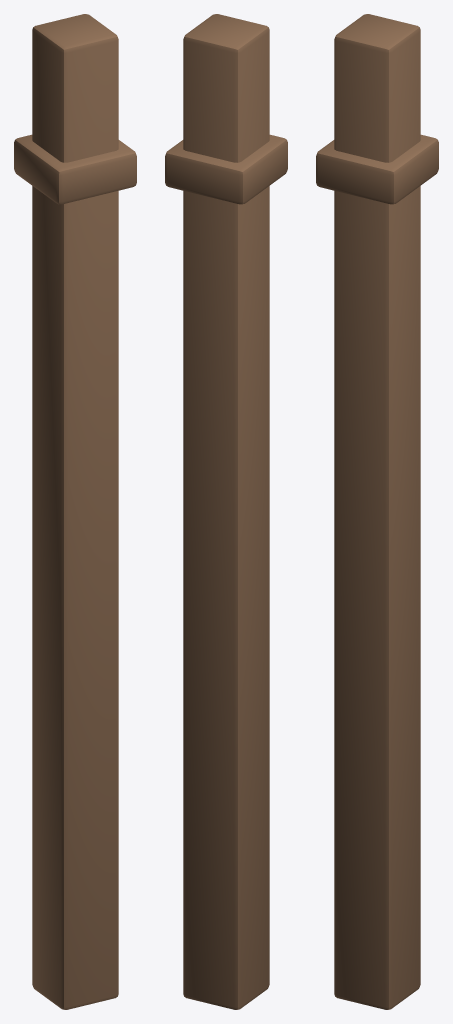
File: Bakery_BeamPost.fbx
3 views of the same model, side by side, from view 1: azimuth 30°, elevation 25°; view 2: azimuth 150°, elevation 25°; view 3: azimuth 330°, elevation 25° (orthographic).
Parts seen in each view (by area): view 1: Bakery_BeamPost; view 2: Bakery_BeamPost; view 3: Bakery_BeamPost.
Part boxes in pixels (x1,y1,x2,y2): Bakery_BeamPost: [14, 14, 136, 1009]; Bakery_BeamPost: [165, 14, 287, 1009]; Bakery_BeamPost: [316, 14, 438, 1009].
Size of the model in its own units: 1.4 by 16 by 1.4.
